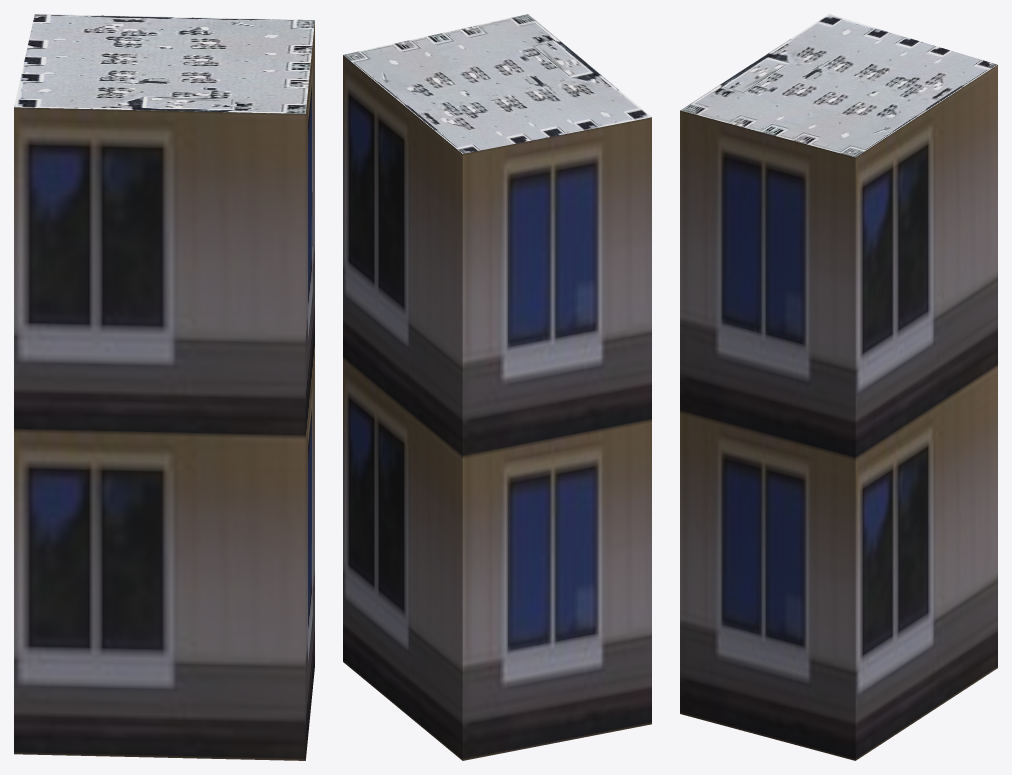
Rendered from ResTex__5010.fbx.
3 views of the same model, side by side, from view 1: azimuth 30°, elevation 25°; view 2: azimuth 150°, elevation 25°; view 3: azimuth 270°, elevation 25° (orthographic). The views are drawn at different scales.
Parts seen in each view (by area): view 1: CityEngineMaterial_5_m, CityEngineMaterial_8_m; view 2: CityEngineMaterial_5_m, CityEngineMaterial_8_m; view 3: CityEngineMaterial_5_m, CityEngineMaterial_8_m.
Boxes of the visible parts, bbox=[...] form: CityEngineMaterial_5_m: bbox=[14, 21, 314, 760]; CityEngineMaterial_8_m: bbox=[14, 14, 314, 113]; CityEngineMaterial_5_m: bbox=[343, 55, 651, 760]; CityEngineMaterial_8_m: bbox=[343, 14, 651, 153]; CityEngineMaterial_5_m: bbox=[680, 65, 997, 760]; CityEngineMaterial_8_m: bbox=[680, 14, 997, 157].
Size of the model in its own units: 3.06 by 6 by 2.86.
Materials: 2 (2 with a texture image).
